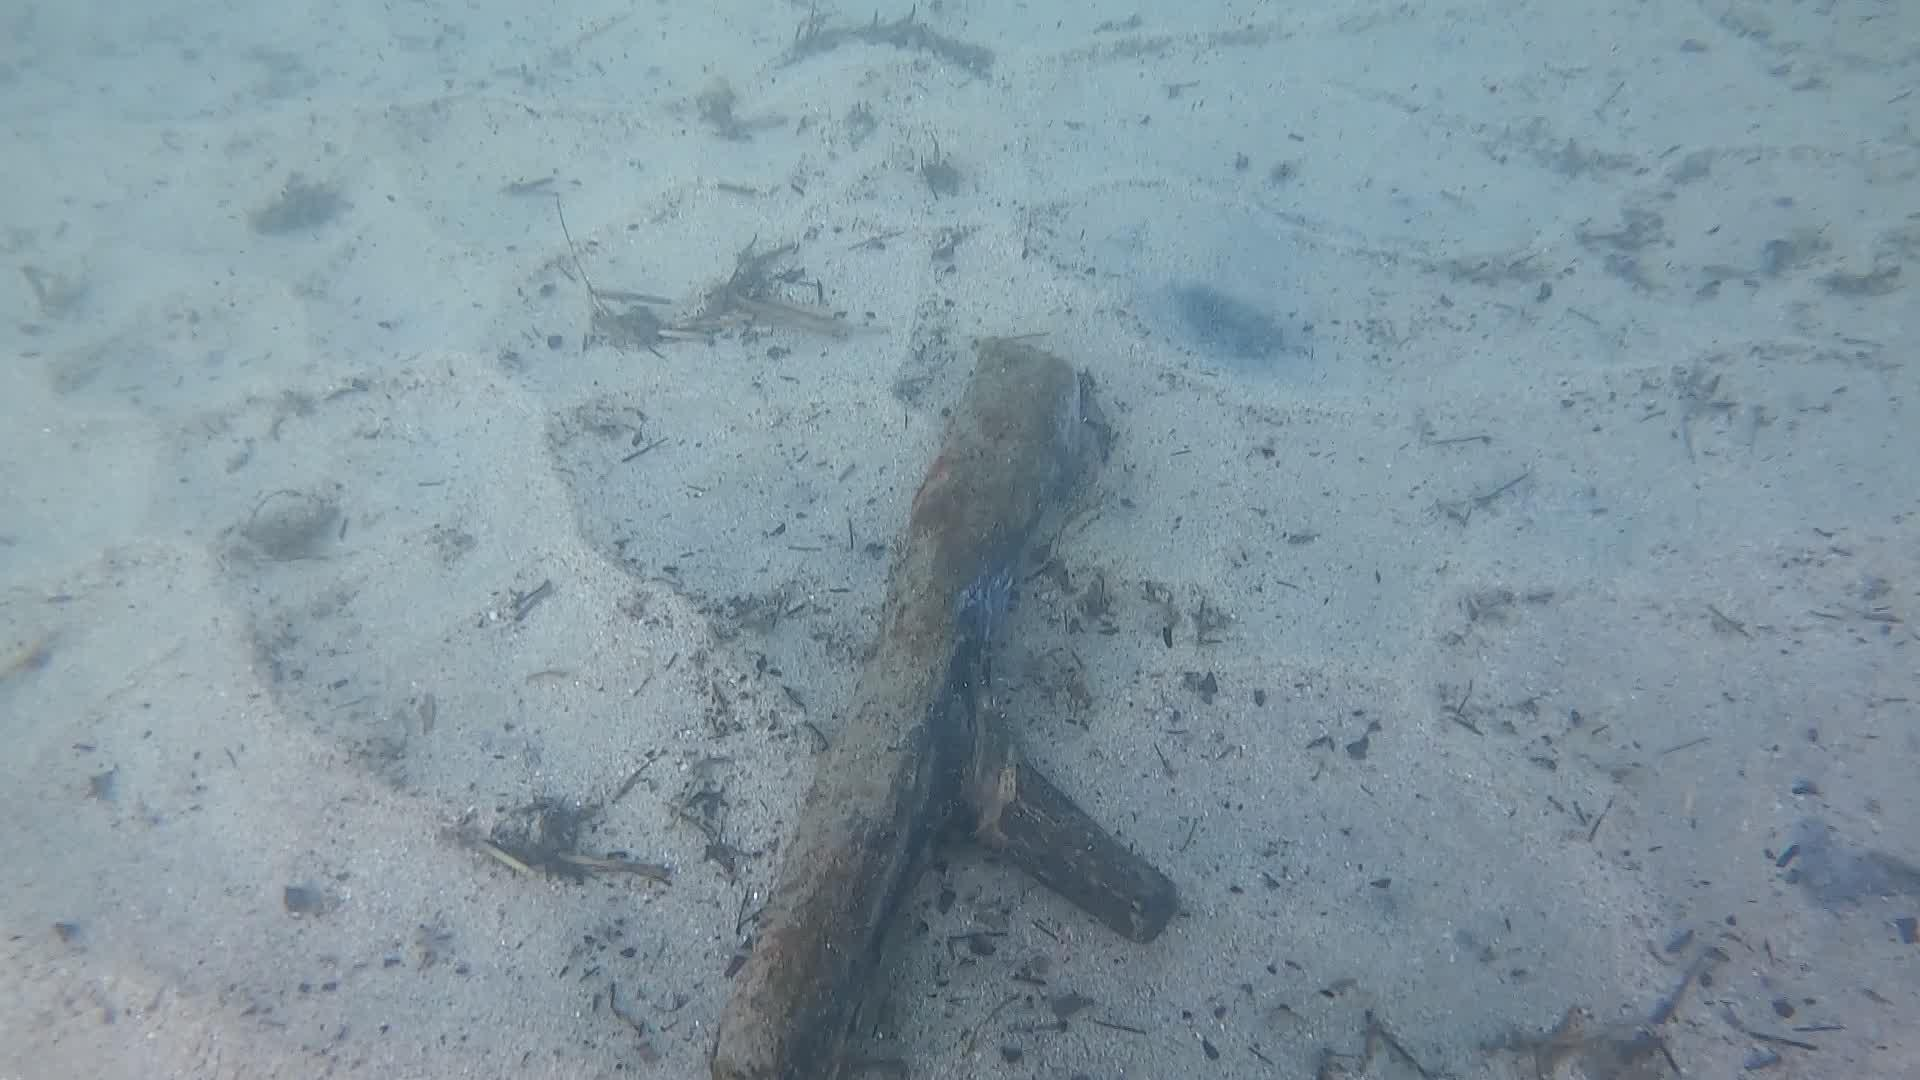wood: (702, 332, 1180, 1080)
